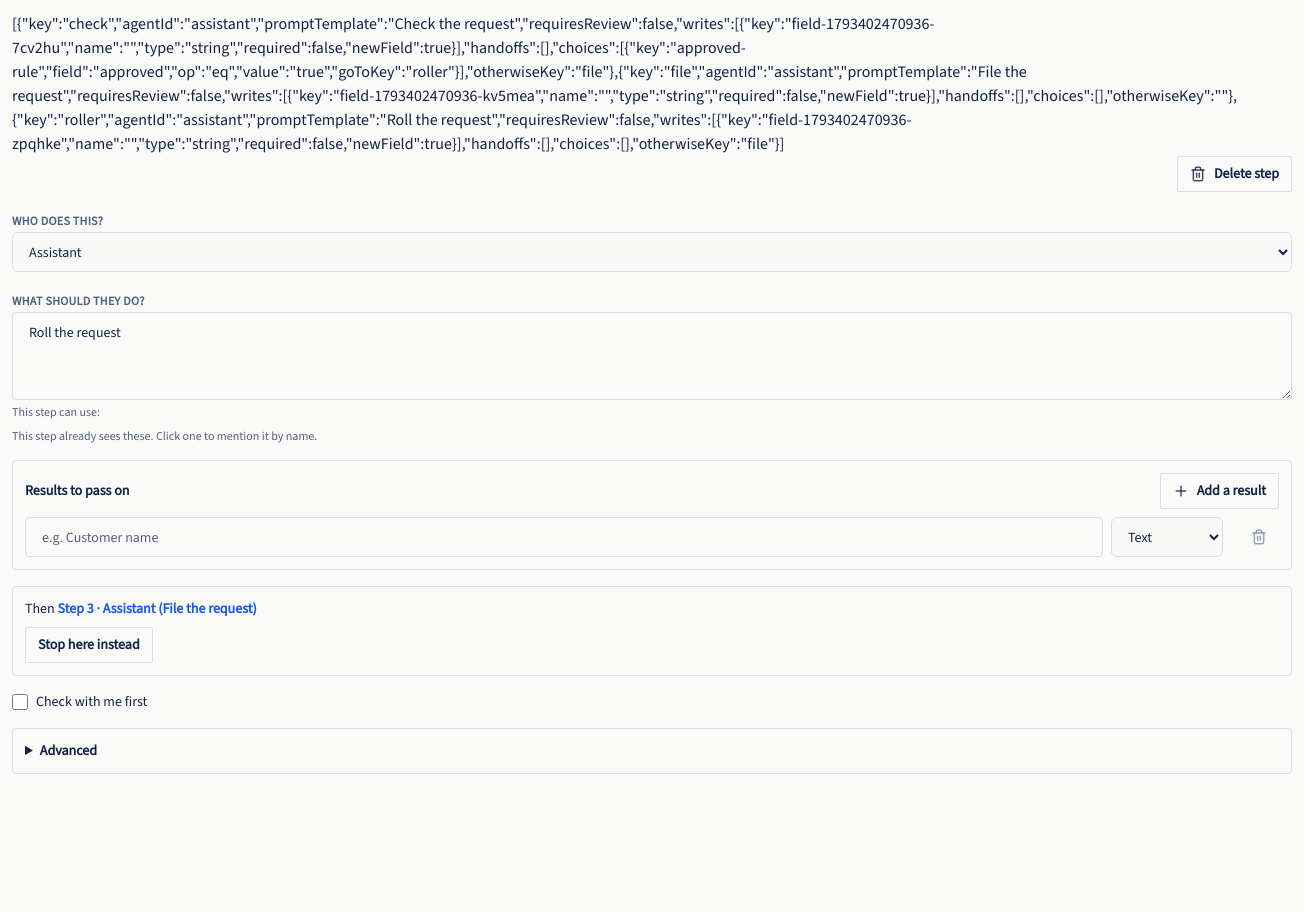
WorkflowStepSettings result-aware checks › lets a continuation stop here while keeping the other path into its destination
Expected: the text "Then Step 3 · Assistant (File the request)" is shown, [25,599,257,619]
Step 1. Click the button "Stop here instead" → coordinates (89, 645), box [25,627,153,663]
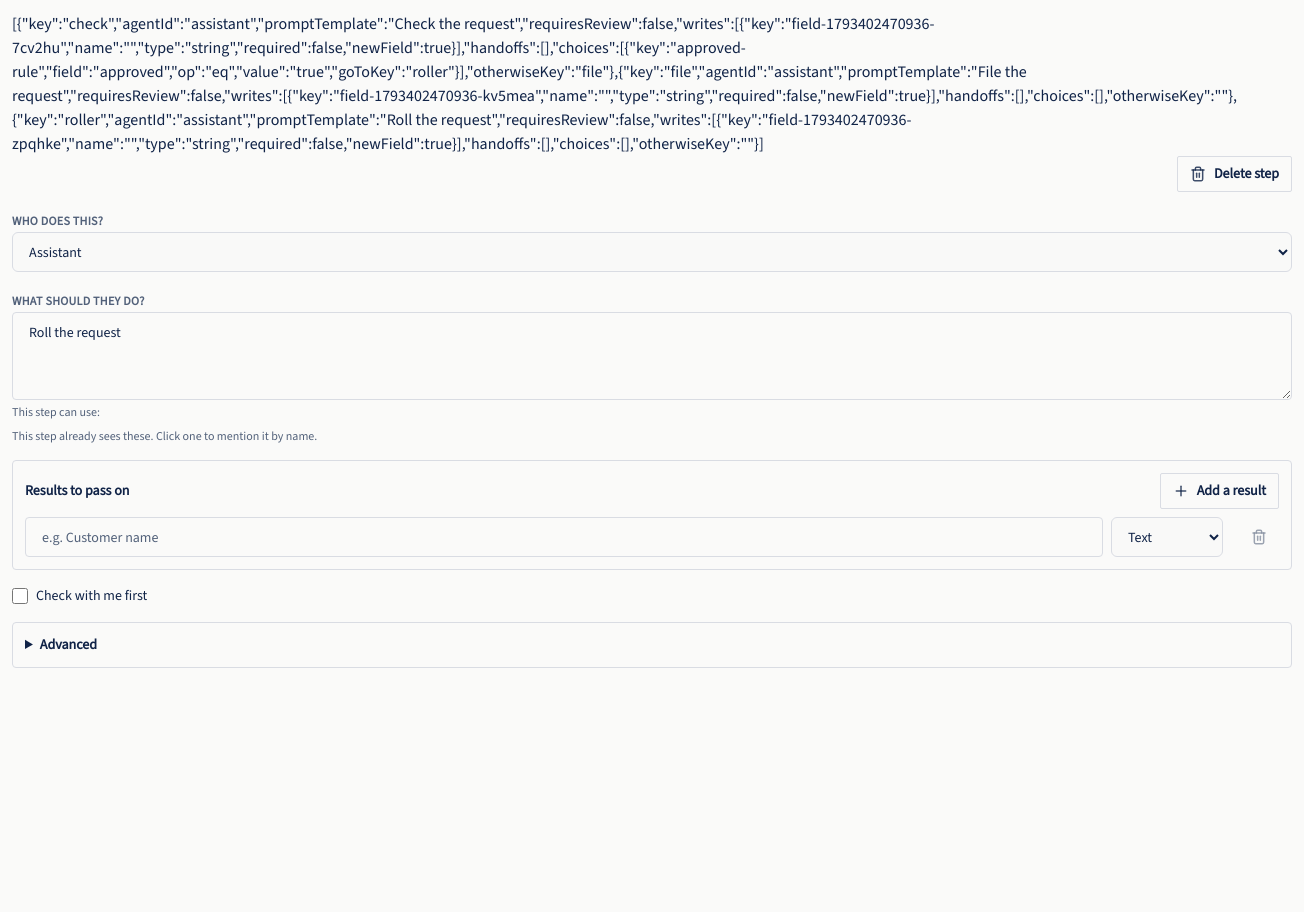
Expected: the button "Stop here instead" is gone
